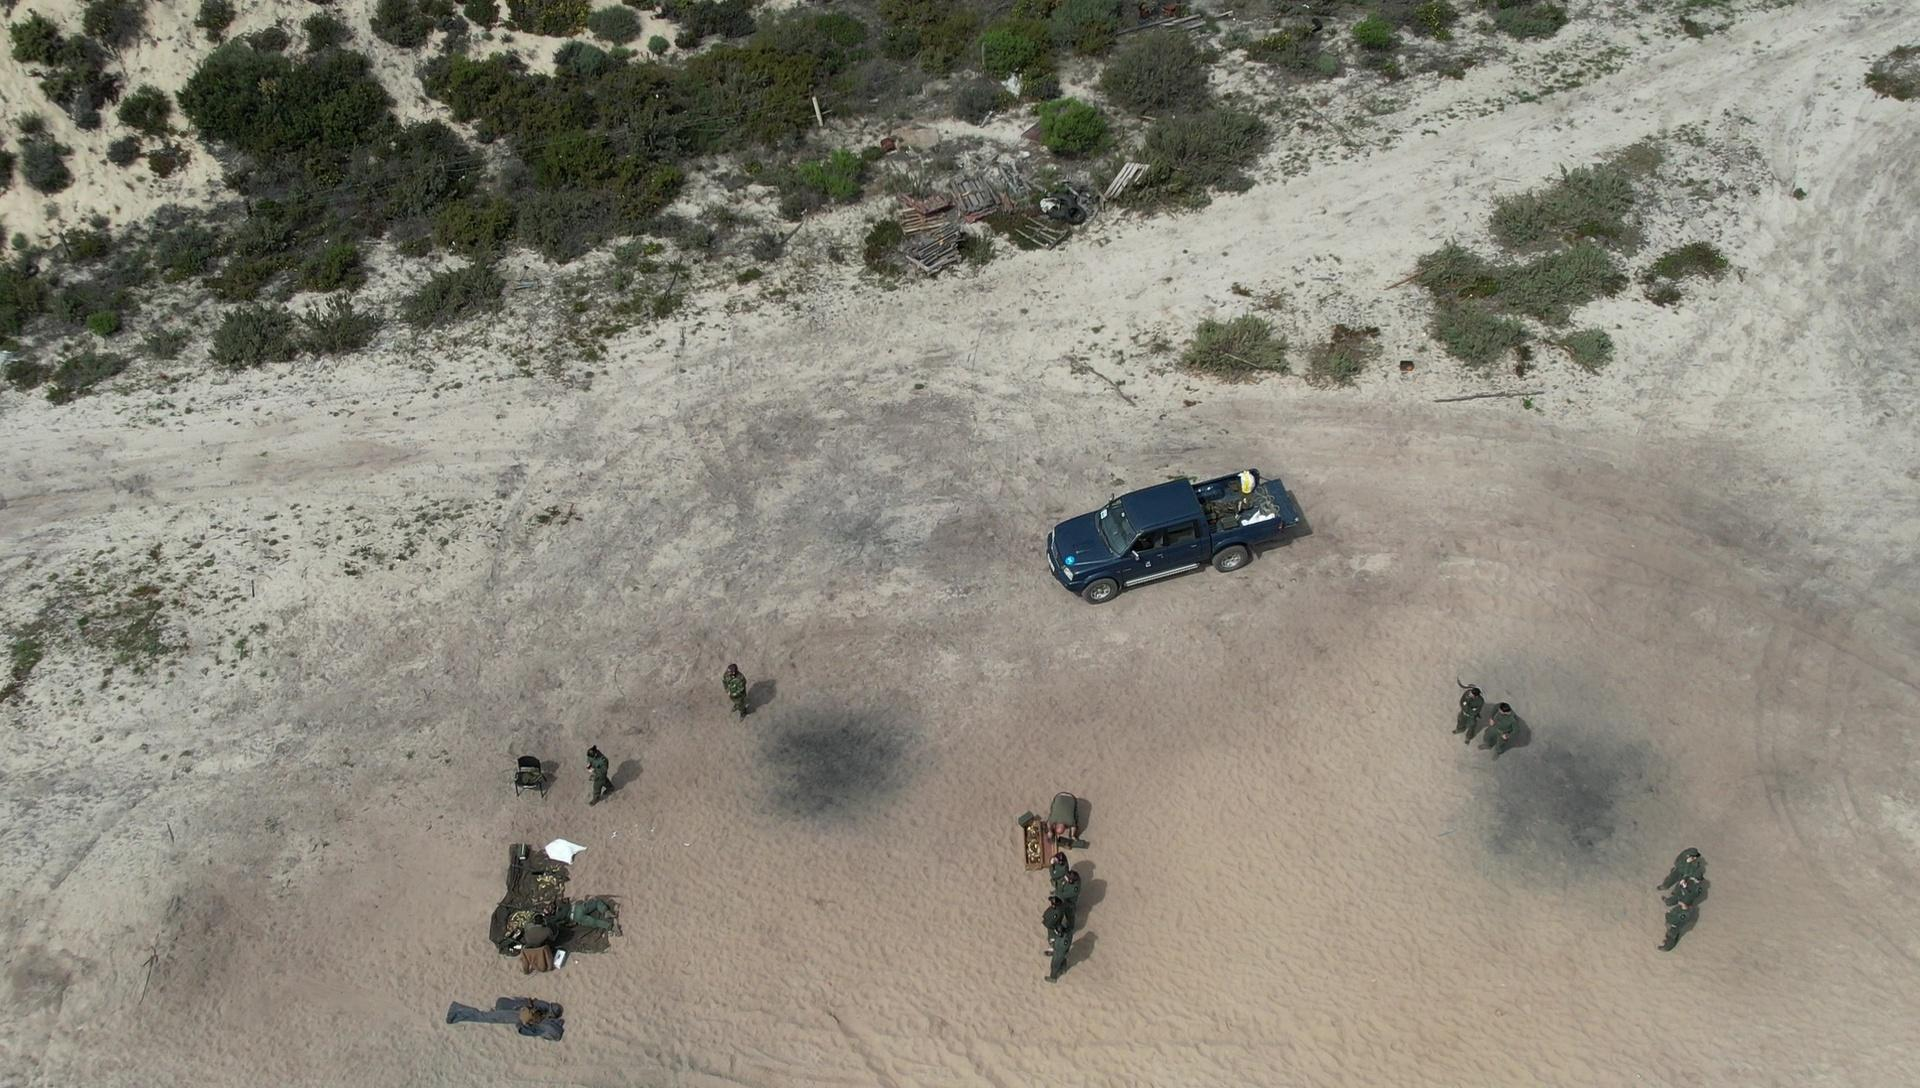Soldier: (1042, 779, 1110, 862), (716, 651, 766, 739), (541, 892, 629, 938), (578, 739, 632, 808), (1481, 682, 1522, 769), (1654, 899, 1710, 959), (1042, 921, 1085, 986), (1453, 674, 1486, 754), (525, 910, 563, 964), (1667, 837, 1709, 874), (1660, 873, 1716, 901), (1048, 866, 1087, 905), (1038, 895, 1076, 928), (1044, 851, 1072, 878)
